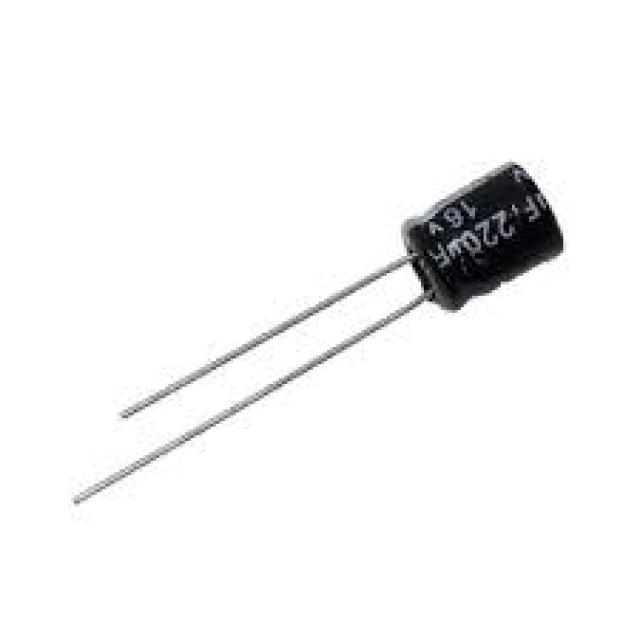Capacitor: (401, 162, 566, 313)
